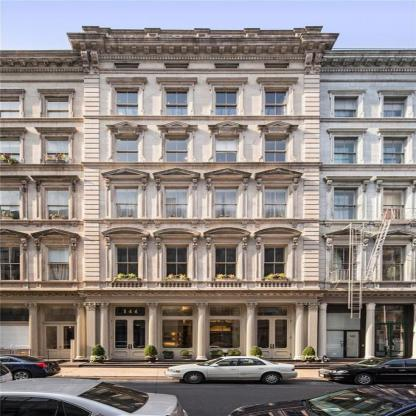Building Outline: (66, 26, 340, 360)
Cornice: (82, 26, 324, 35), (255, 167, 304, 180), (101, 167, 150, 180), (203, 167, 252, 180), (152, 167, 201, 180), (106, 119, 148, 133), (257, 119, 299, 133), (207, 119, 249, 133), (157, 119, 198, 133), (100, 227, 150, 238), (202, 227, 252, 238), (152, 227, 201, 238), (254, 227, 303, 238), (105, 77, 148, 85), (257, 77, 299, 85), (206, 77, 248, 85), (156, 77, 198, 85)
Deco: (293, 238, 299, 250), (256, 238, 262, 250), (141, 238, 147, 250), (105, 238, 111, 250), (192, 238, 198, 250), (156, 238, 162, 250), (243, 238, 249, 250), (206, 238, 212, 250), (293, 178, 299, 190), (256, 178, 262, 190), (141, 178, 147, 190), (105, 178, 111, 190), (192, 178, 198, 190), (156, 178, 162, 190), (243, 178, 249, 190), (206, 178, 212, 190)
Door: (112, 318, 148, 359), (256, 318, 291, 359)
Facade: (65, 26, 340, 360)
Floor Slab: (84, 289, 320, 294), (84, 69, 320, 74), (84, 162, 320, 167), (84, 221, 320, 226), (84, 116, 320, 121)
Molding: (83, 292, 320, 296), (99, 56, 305, 60)
Pillar: (308, 303, 318, 359), (295, 303, 305, 359), (246, 303, 256, 359), (99, 303, 108, 359), (86, 303, 95, 359), (197, 303, 206, 359), (148, 303, 157, 359)
Sill: (152, 218, 199, 228), (103, 218, 150, 228), (253, 218, 300, 228), (202, 218, 249, 228), (255, 281, 297, 290), (106, 281, 148, 290), (206, 281, 247, 290), (156, 281, 197, 290)
Window: (163, 320, 193, 348), (210, 320, 240, 348), (215, 246, 237, 278), (265, 246, 286, 278), (117, 246, 138, 278), (166, 246, 187, 278), (215, 189, 237, 217), (265, 189, 286, 217), (166, 189, 187, 217), (117, 189, 137, 217), (215, 92, 237, 115), (215, 138, 237, 161), (265, 92, 286, 115), (166, 92, 187, 115), (265, 138, 286, 161), (166, 138, 187, 161), (117, 92, 137, 115), (117, 138, 137, 161), (258, 307, 288, 317), (115, 307, 145, 317), (210, 307, 240, 317), (163, 307, 193, 317), (114, 63, 139, 68), (164, 63, 189, 68), (265, 63, 289, 68), (215, 63, 239, 68)
